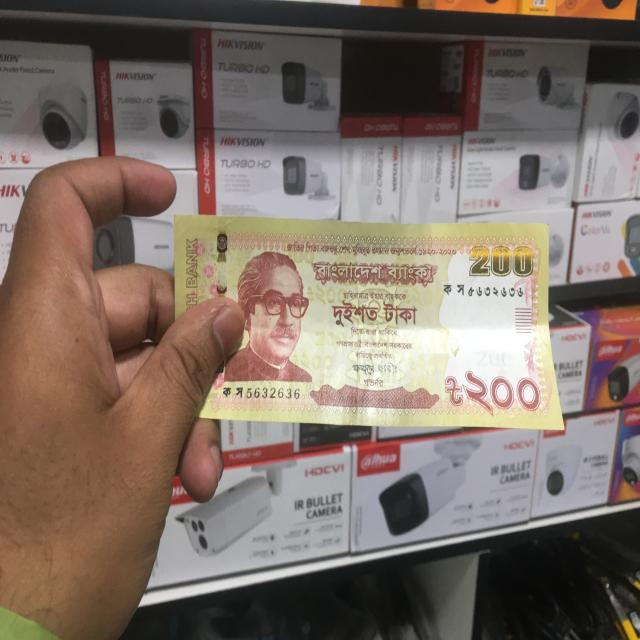Taka: (172, 208, 559, 435)
